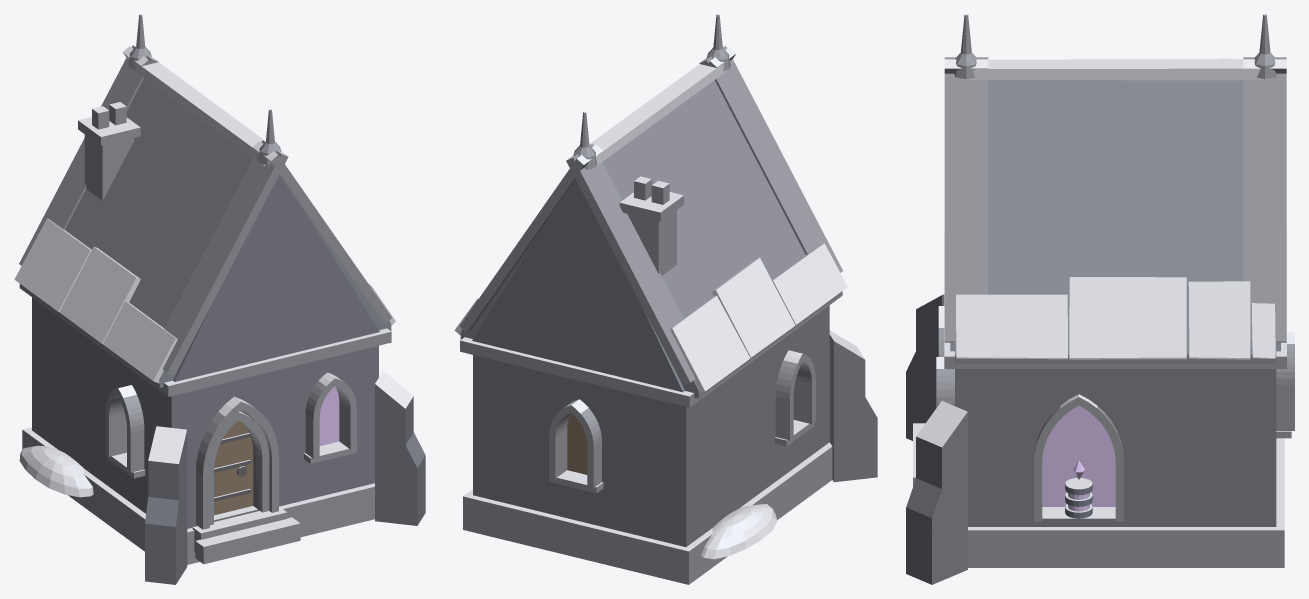
Rendered from AR_Casa_Aprendiz.fbx.
The picture shows the model from 3 angles, left to right: view 1: azimuth 30°, elevation 25°; view 2: azimuth 150°, elevation 25°; view 3: azimuth 270°, elevation 25°; orthographic projection. The views are drawn at different scales.
Visible parts, largest first — view 1: AR_Casa_Aprendiz; view 2: AR_Casa_Aprendiz; view 3: AR_Casa_Aprendiz.
Boxes of the visible parts, x1,y1,x2,y2 form: AR_Casa_Aprendiz: (14, 14, 425, 584); AR_Casa_Aprendiz: (454, 14, 877, 584); AR_Casa_Aprendiz: (906, 14, 1294, 584).
Bounding box in the file's own units: 8.12 × 11.8 × 8.46.
